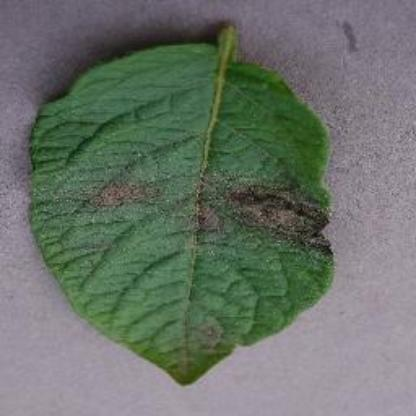Late-Blight: (26, 29, 354, 387)
